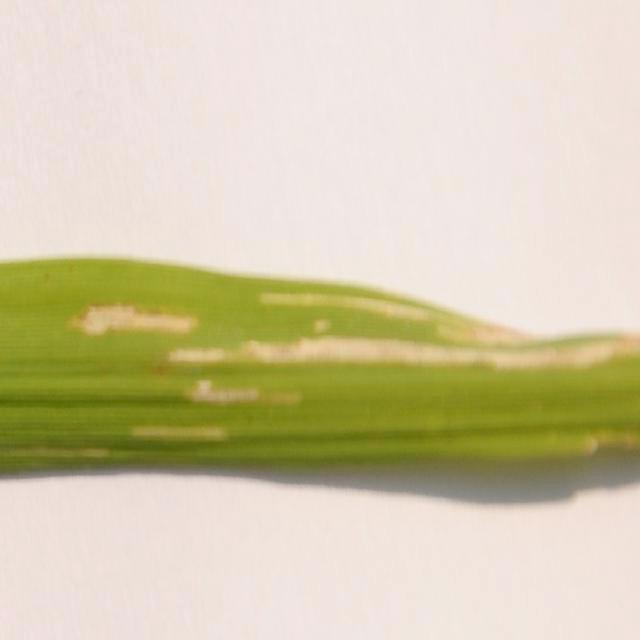bacterial_leaf_blight: (166, 333, 640, 375), (260, 292, 431, 321), (72, 304, 197, 335), (189, 380, 259, 403), (132, 426, 226, 440)
